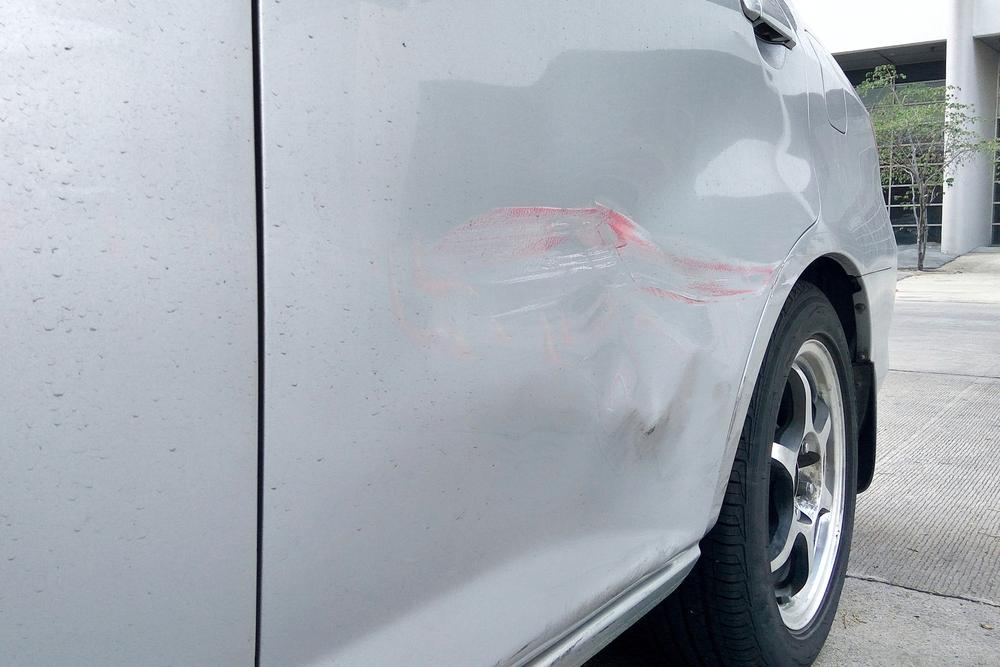dent: (395, 36, 811, 427)
